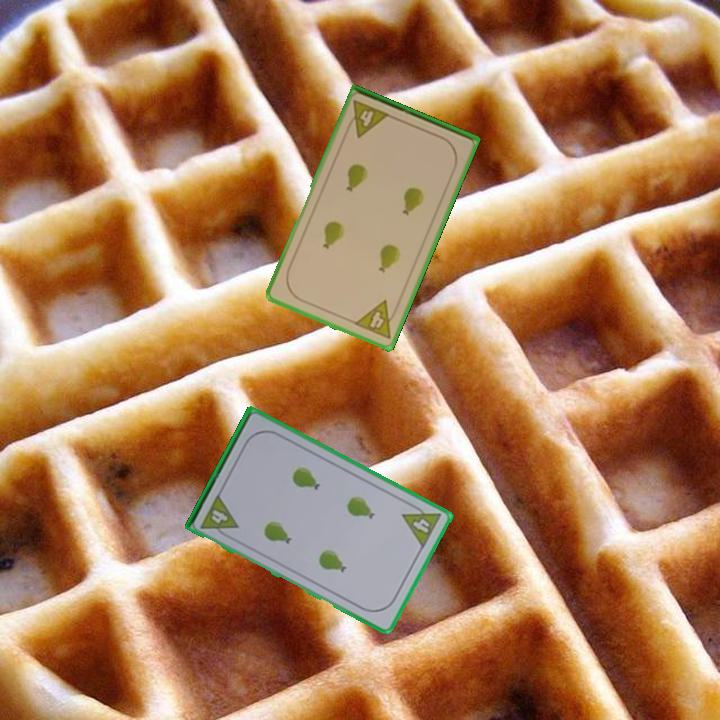4p: (399, 498, 444, 551), (351, 297, 402, 342), (197, 490, 241, 542), (342, 97, 392, 140)
